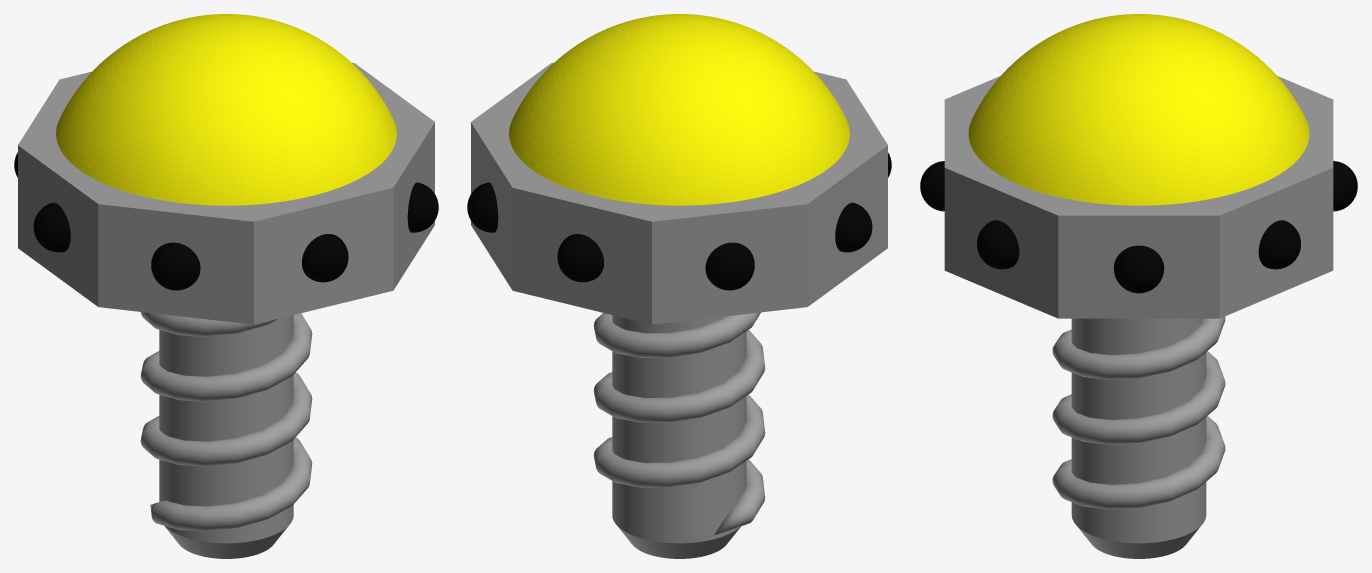
Rendered from BoltSmall.fbx.
3 renders of one model, left to right at view 1: azimuth 30°, elevation 25°; view 2: azimuth 150°, elevation 25°; view 3: azimuth 270°, elevation 25°, orthographic.
Parts seen in each view (by area): view 1: Bolt, Top, Ball8, Ball1, Ball4, Ball5; view 2: Bolt, Top, Ball7, Ball2, Ball4, Ball6; view 3: Bolt, Top, Ball3, Ball5, Ball6, Ball1, Ball2.
Part boxes in pixels (<box>): Bolt: <box>18,62,434,558</box>; Top: <box>56,14,396,205</box>; Ball8: <box>151,242,200,290</box>; Ball1: <box>302,234,348,282</box>; Ball4: <box>33,202,70,252</box>; Ball5: <box>407,182,438,232</box>; Bolt: <box>471,62,887,558</box>; Top: <box>509,14,849,205</box>; Ball7: <box>705,242,754,290</box>; Ball2: <box>557,234,603,282</box>; Ball4: <box>835,202,872,252</box>; Ball6: <box>467,182,498,232</box>; Bolt: <box>944,76,1333,558</box>; Top: <box>968,14,1309,205</box>; Ball3: <box>1113,245,1164,293</box>; Ball5: <box>977,220,1019,269</box>; Ball6: <box>1258,220,1300,269</box>; Ball1: <box>920,161,944,211</box>; Ball2: <box>1333,161,1357,211</box>.
Size of the model in its own units: 104 by 133 by 104.
